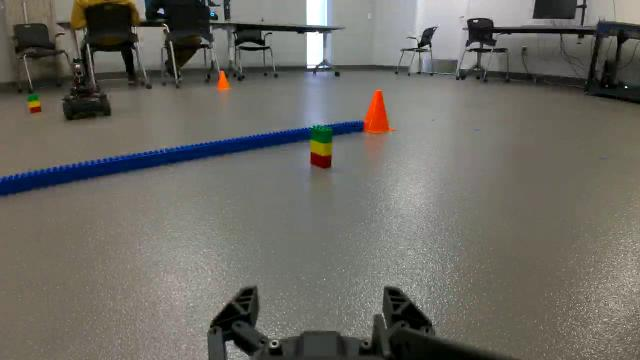lego: (304, 119, 338, 174)
